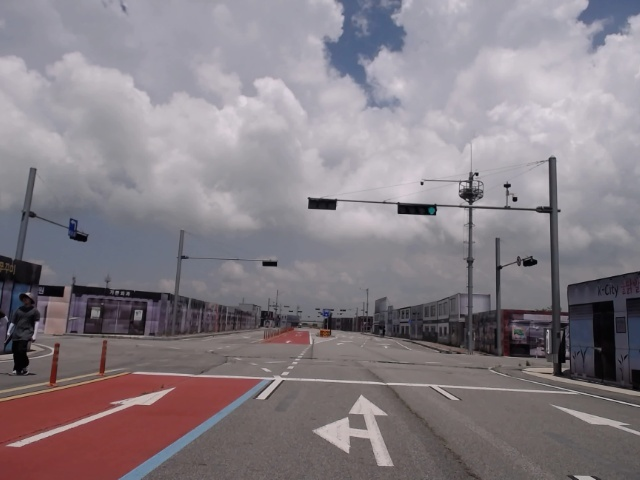straight_green_4: (398, 204, 438, 216)
